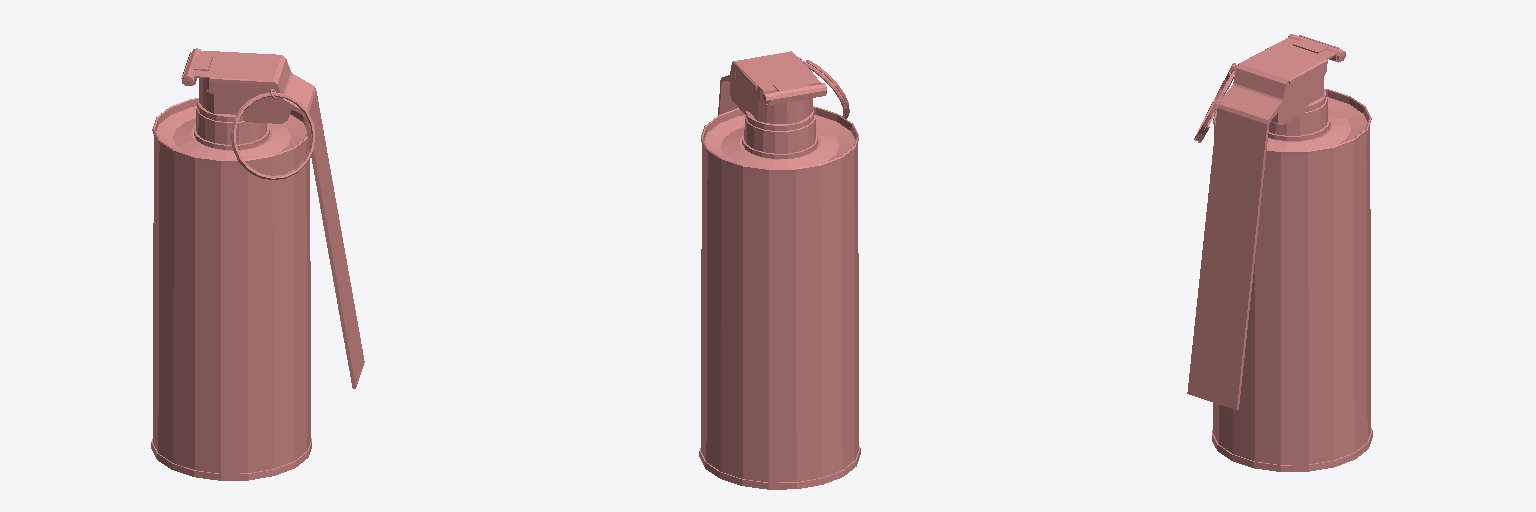
The model's file is GrenadeLowResSingle.obj.
The picture shows the model from 3 angles: view 1: azimuth 30°, elevation 25°; view 2: azimuth 150°, elevation 25°; view 3: azimuth 270°, elevation 25°; orthographic projection.
Parts seen in each view (by area): view 1: M18_Smoke_Grenade:LowPoly_512_texture_res; view 2: M18_Smoke_Grenade:LowPoly_512_texture_res; view 3: M18_Smoke_Grenade:LowPoly_512_texture_res.
Boxes of the visible parts, <box> form: M18_Smoke_Grenade:LowPoly_512_texture_res: <box>151,48,364,480</box>; M18_Smoke_Grenade:LowPoly_512_texture_res: <box>699,51,860,489</box>; M18_Smoke_Grenade:LowPoly_512_texture_res: <box>1187,34,1372,471</box>.
Size of the model in its own units: 6.96 by 14.62 by 6.4.